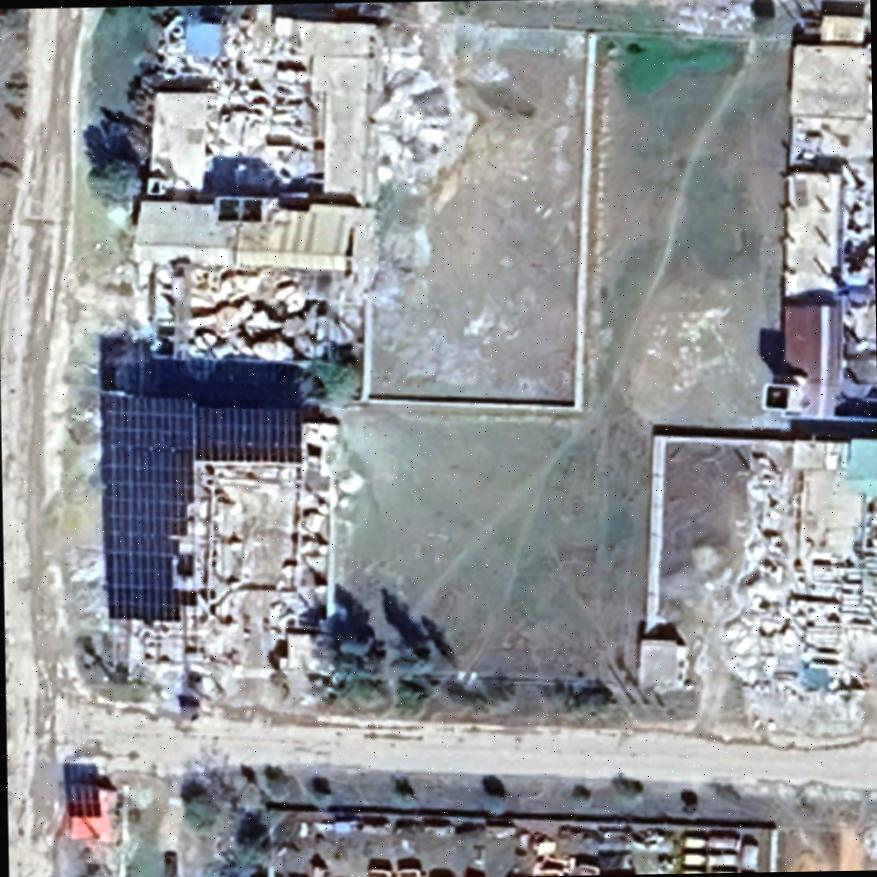Solarpanel: (95, 393, 326, 621)
